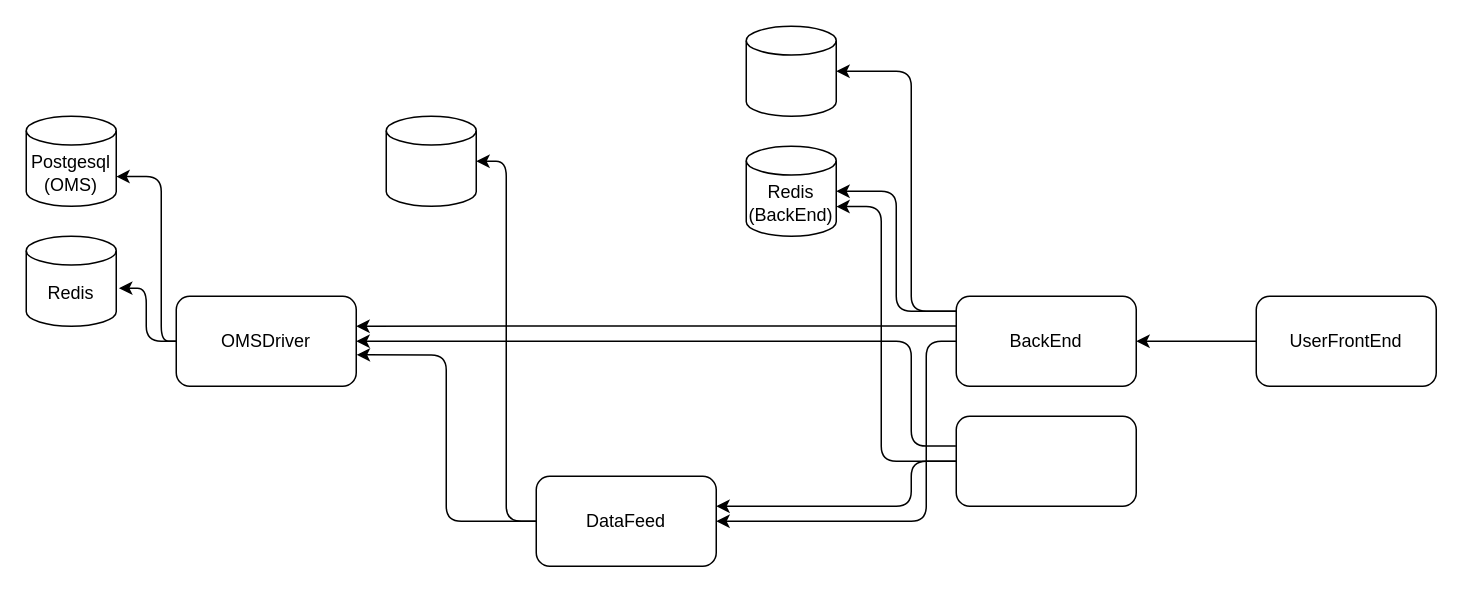
Image size: 1463x593. Some labels were removed from this diagram. Each missing label, with the box of its shape:
Core: (955, 415, 1136, 506)
Postgesql (DataFeed): (385, 115, 476, 206)
Postgesql (Pluto): (745, 25, 836, 116)
